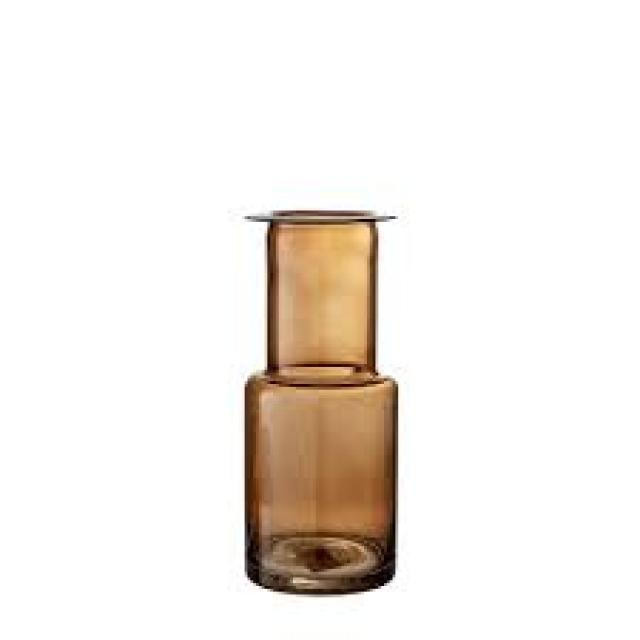glass: (242, 205, 398, 589)
